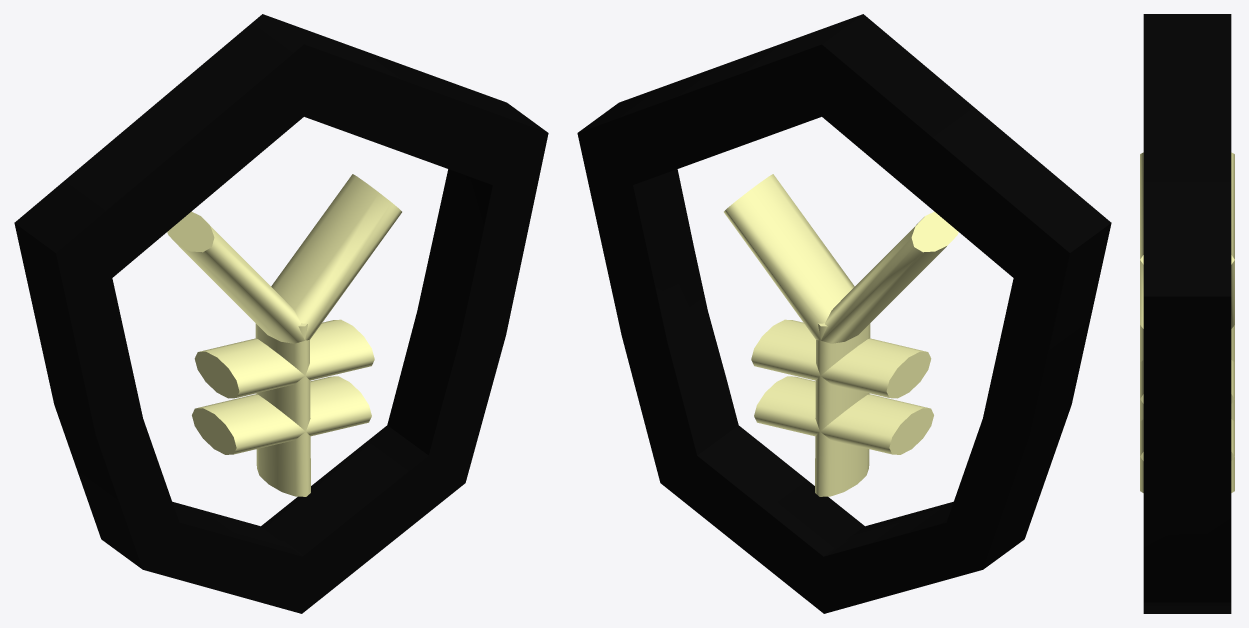
Rendered from 保险公司.gltf.
3 views of the same model, side by side, from view 1: azimuth 30°, elevation 25°; view 2: azimuth 150°, elevation 25°; view 3: azimuth 270°, elevation 25° (orthographic). The views are drawn at different scales.
Parts seen in each view (by area): view 1: node__-57592, node_money_-57594; view 2: node__-57592, node_money_-57594; view 3: node__-57592, node_money_-57594.
Boxes of the visible parts, x1=… form: node__-57592: x1=14, y1=14, x2=548, y2=613; node_money_-57594: x1=167, y1=174, x2=401, y2=496; node__-57592: x1=577, y1=14, x2=1111, y2=613; node_money_-57594: x1=724, y1=174, x2=958, y2=496; node__-57592: x1=1143, y1=14, x2=1231, y2=613; node_money_-57594: x1=1140, y1=152, x2=1234, y2=492.
Bounding box in the file's own units: 0.0539 × 0.0595 × 0.00851.
